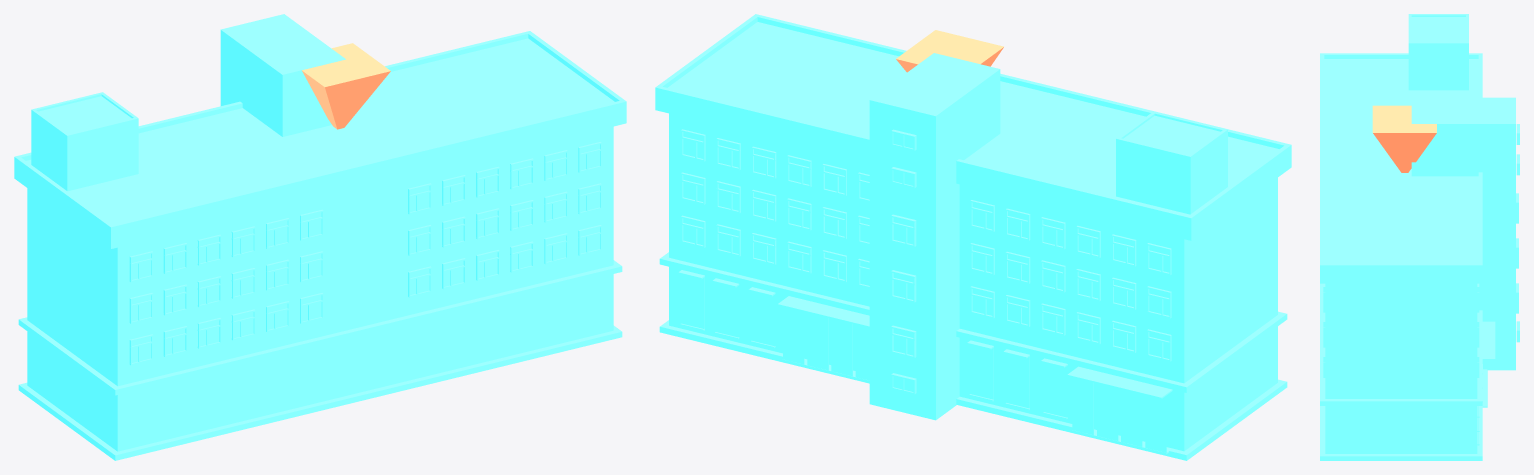
3 renders of one model, left to right at view 1: azimuth 30°, elevation 25°; view 2: azimuth 150°, elevation 25°; view 3: azimuth 270°, elevation 25°, orthographic. The views are drawn at different scales.
Visible parts, largest first — view 1: subject, fire-mark; view 2: subject, fire-mark; view 3: subject, fire-mark.
Boxes of the visible parts, bbox=[...] form: subject: bbox=[14, 14, 626, 460]; fire-mark: bbox=[302, 43, 390, 129]; subject: bbox=[655, 14, 1291, 460]; fire-mark: bbox=[896, 30, 1003, 72]; subject: bbox=[1320, 14, 1519, 460]; fire-mark: bbox=[1372, 105, 1436, 172].
Size of the model in its own units: 45.47 by 24.66 by 18.12.
